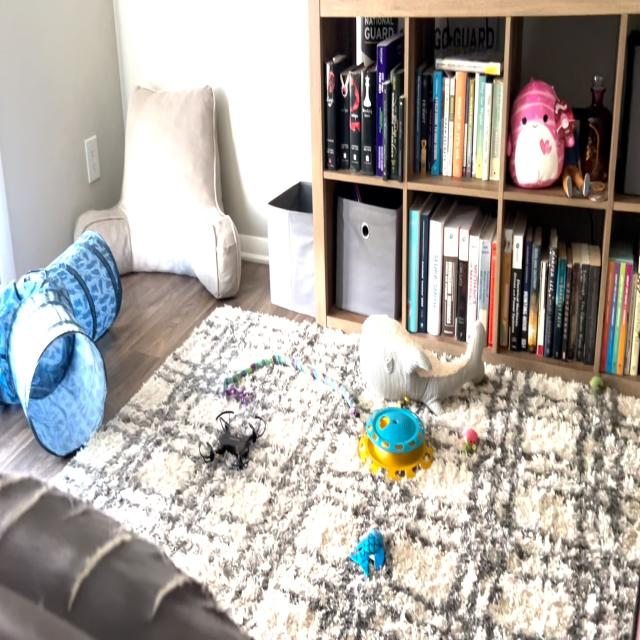drone: (191, 387, 270, 488)
